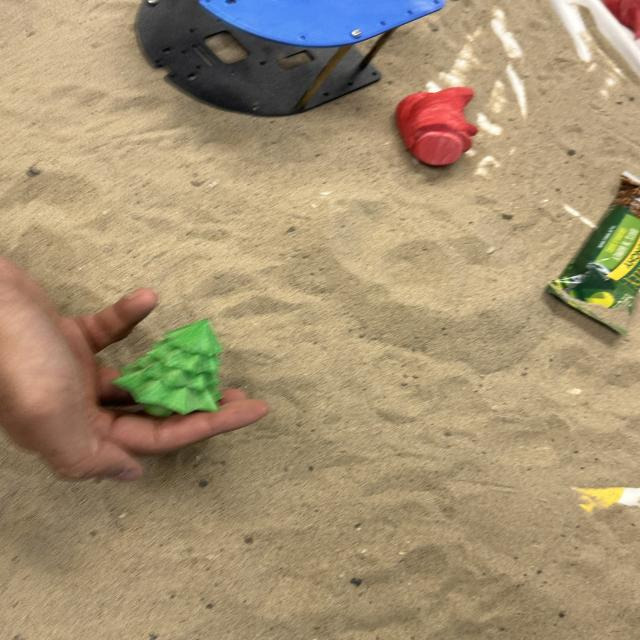fire: (394, 84, 479, 166)
tree: (110, 318, 224, 418)
